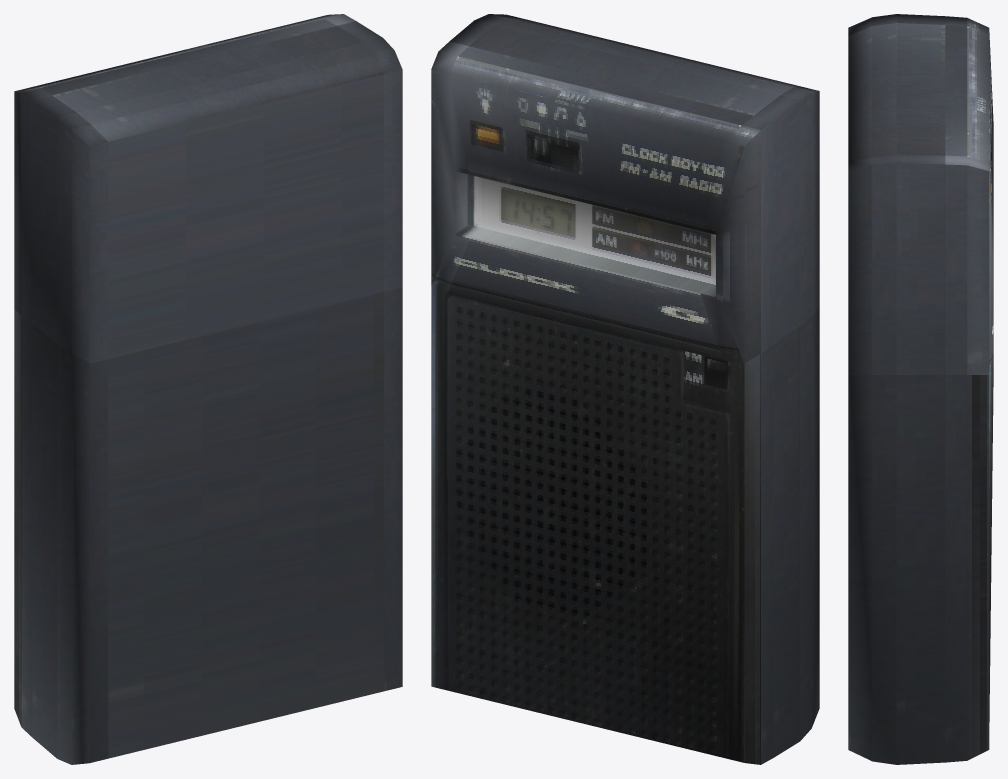
Rendered from small_radio.glb.
3 views of the same model, side by side, from view 1: azimuth 30°, elevation 25°; view 2: azimuth 150°, elevation 25°; view 3: azimuth 270°, elevation 25° (orthographic). The views are drawn at different scales.
Parts seen in each view (by area): view 1: Radio; view 2: Radio; view 3: Radio.
Boxes of the visible parts, bbox=[...] form: Radio: bbox=[14, 14, 402, 764]; Radio: bbox=[431, 14, 819, 764]; Radio: bbox=[848, 14, 993, 764].
Bounding box in the file's own units: 2.57 × 4.84 × 1.06.
Materials: 1 (1 with a texture image).
